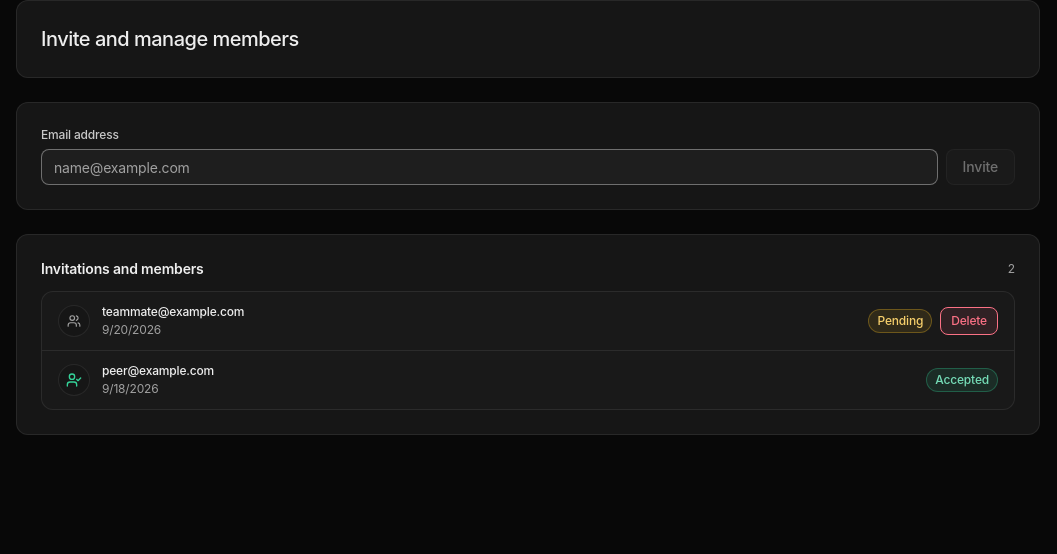
Test: MemberManagementView › submits new invitation and displays generated link
In the field with placeholder "name@example.com": (489, 167) [41,149,938,185], type "newperson@example.com"
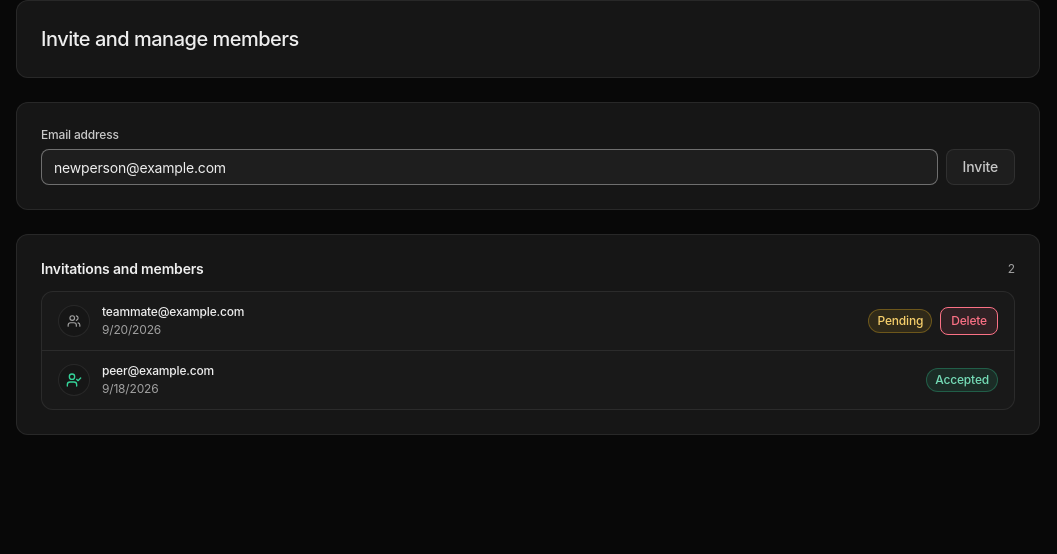
Click the button "Invite": click(980, 167) [946,149,1015,185]
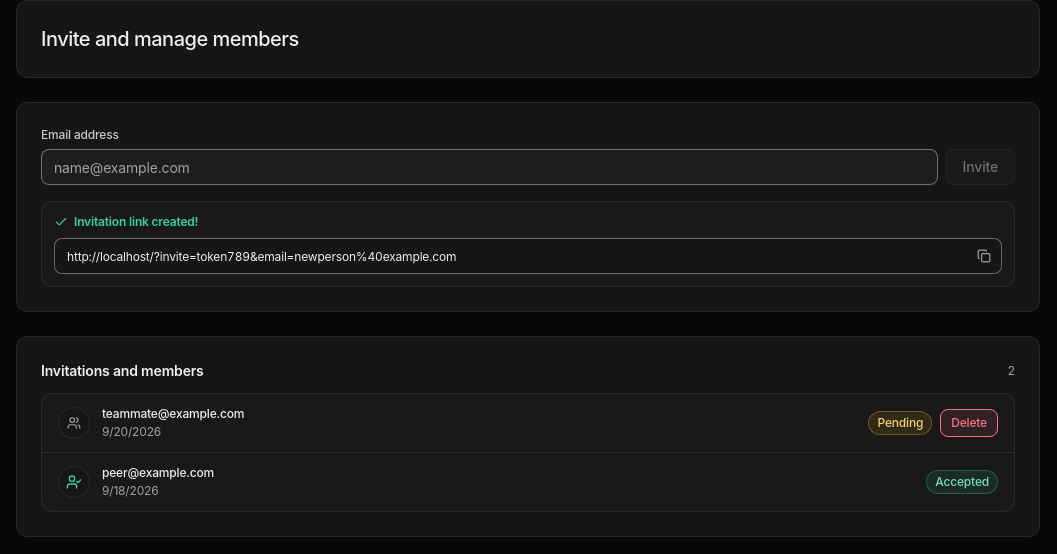
Check: the text "Invitation link created!" is shown, box [74,214,198,230]
